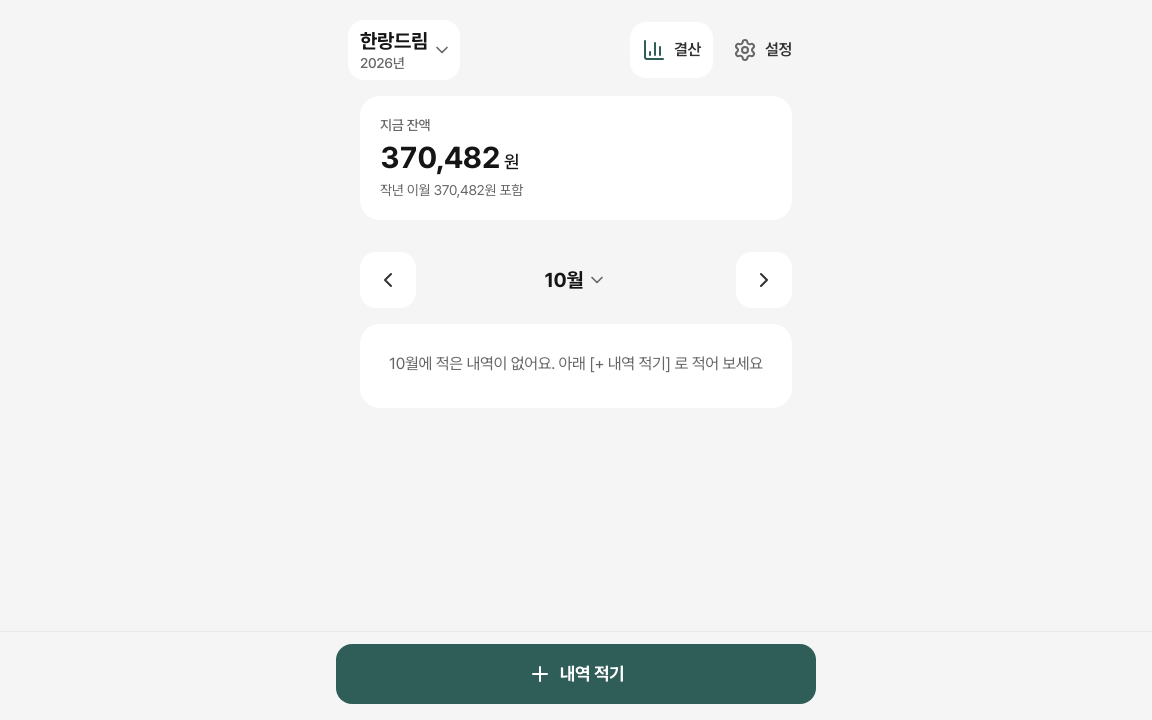
SPEC-002 첫 장부 뒤 홈 화면에 추가 권하기 (#135) › 이미 쓰던 폰(값 없음)에서 두 번째 장부를 만들어도 카드가 뜨지 않는다
This screenshot has width=1152, height=720.
Click the button with test id "book-button".
click(404, 50)  # box [348,20,460,80]
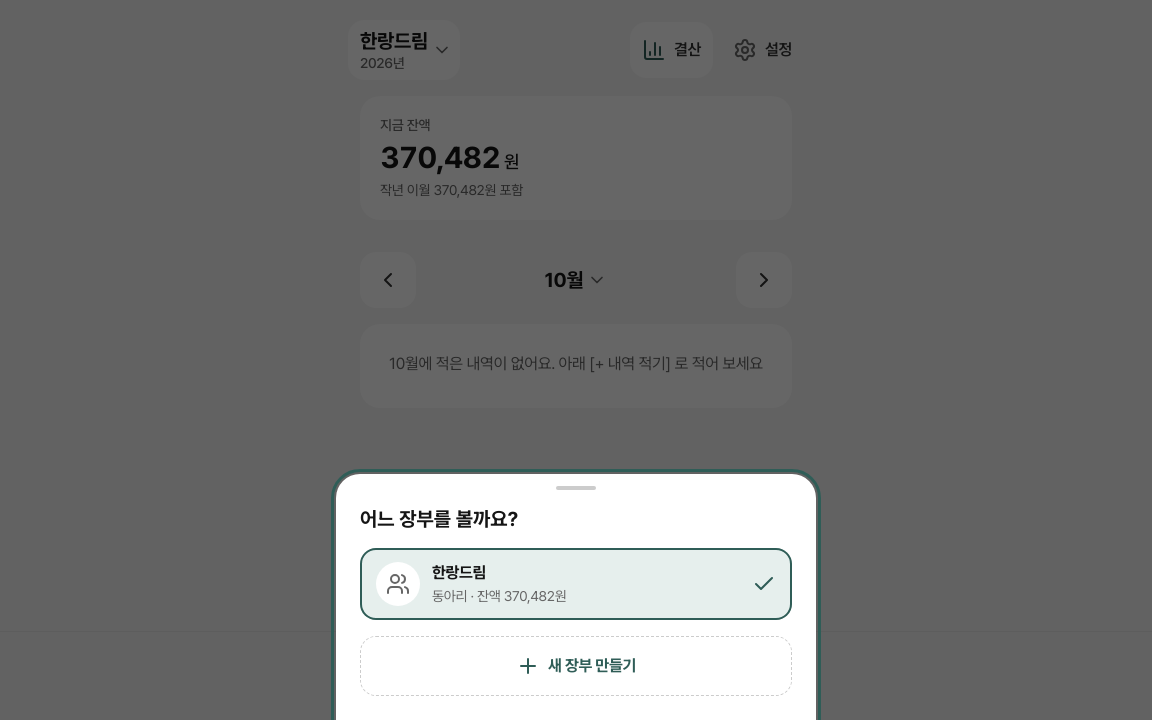
Click the button "새 장부 만들기".
click(576, 666)  # box [360,636,792,696]
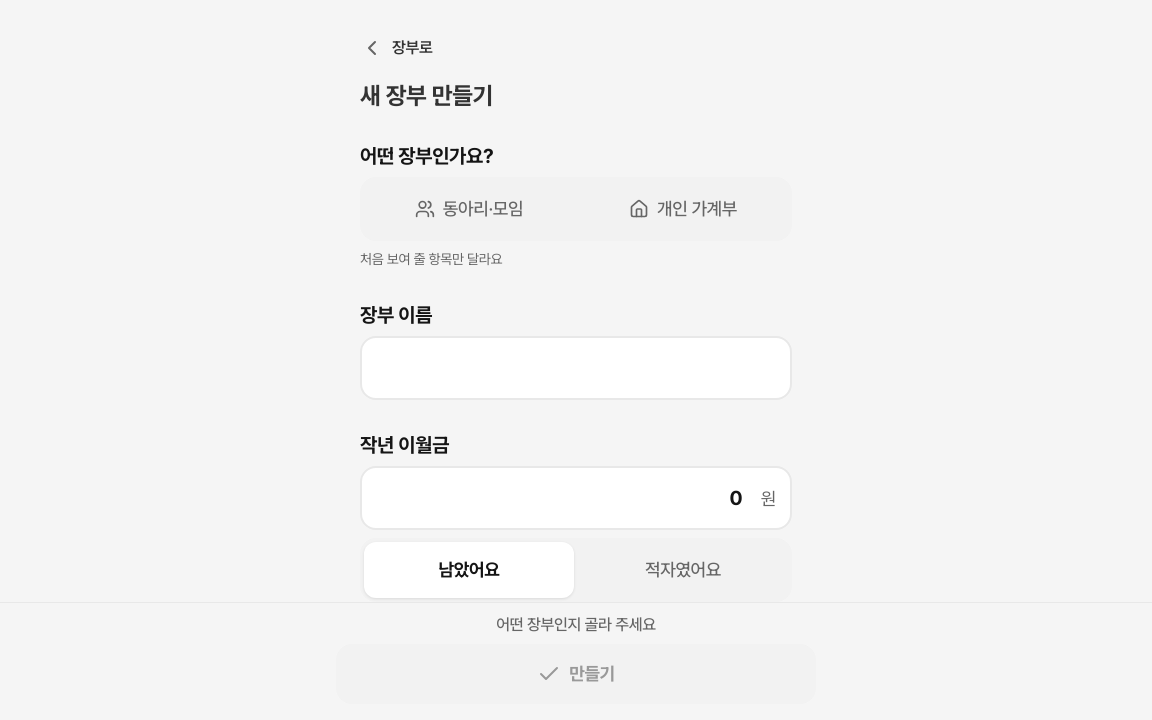
Click the button "개인 가계부".
click(683, 209)  # box [578,181,788,237]
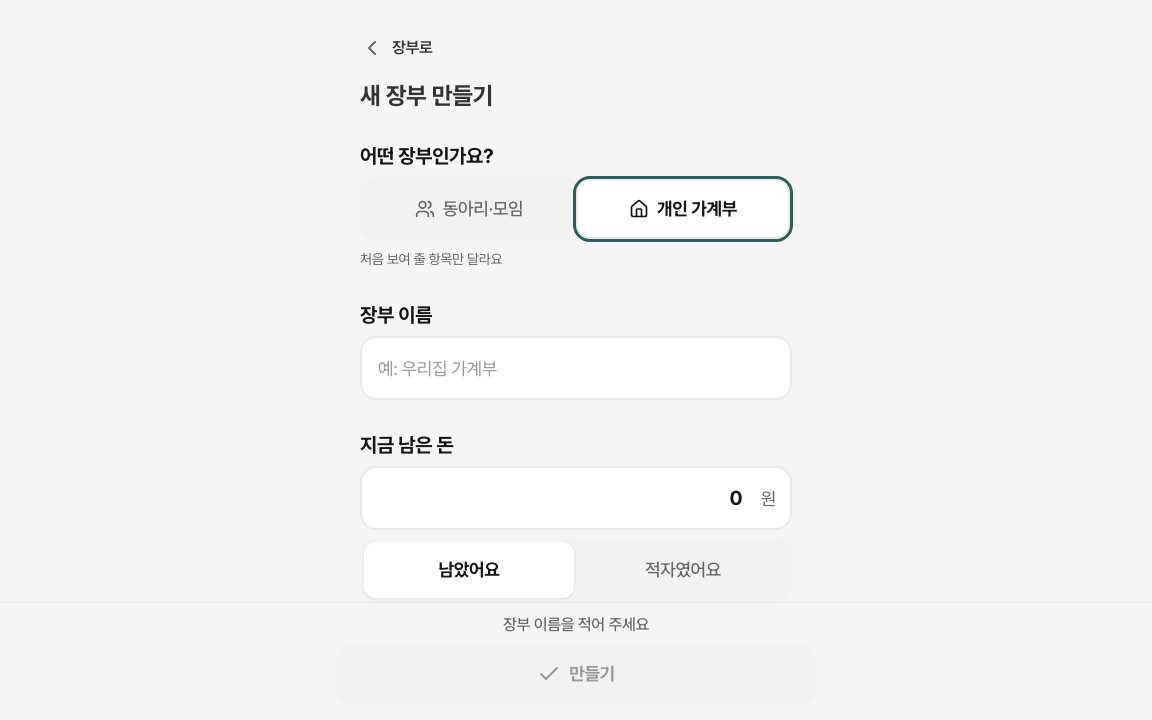
Type "우리집" into the field labelled "장부 이름".
click(576, 368); type("우리집")  # box [360,336,792,400]
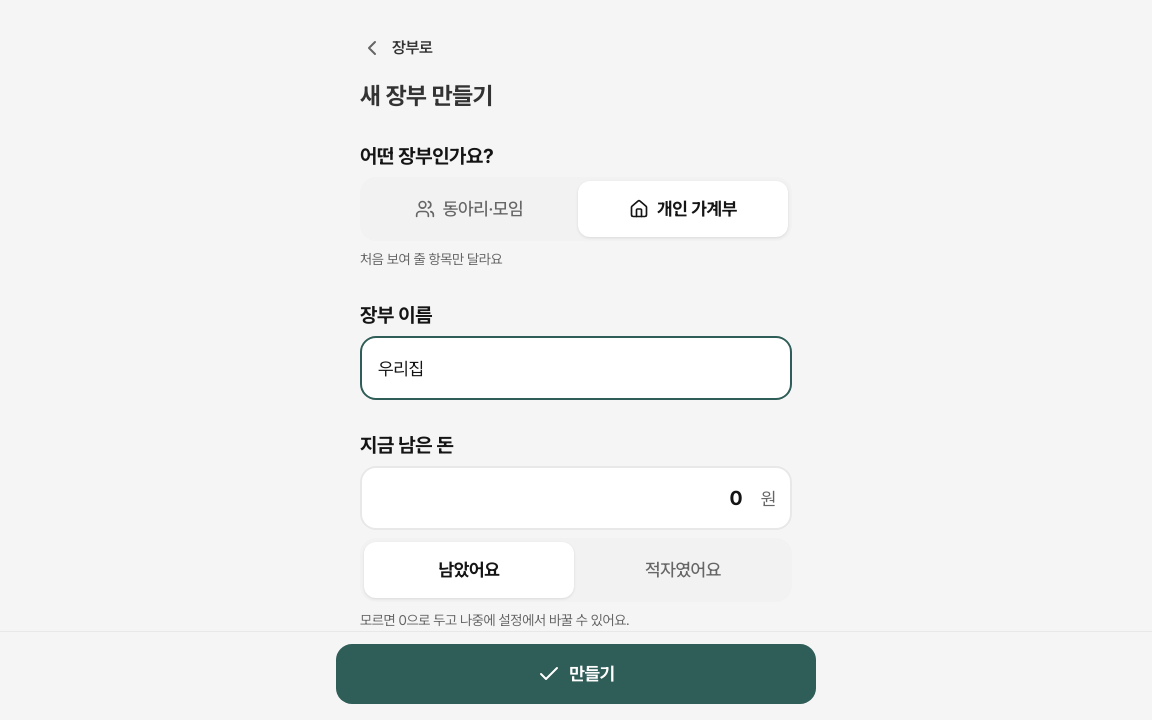
Click the button "만들기".
click(576, 674)  # box [336,644,816,704]
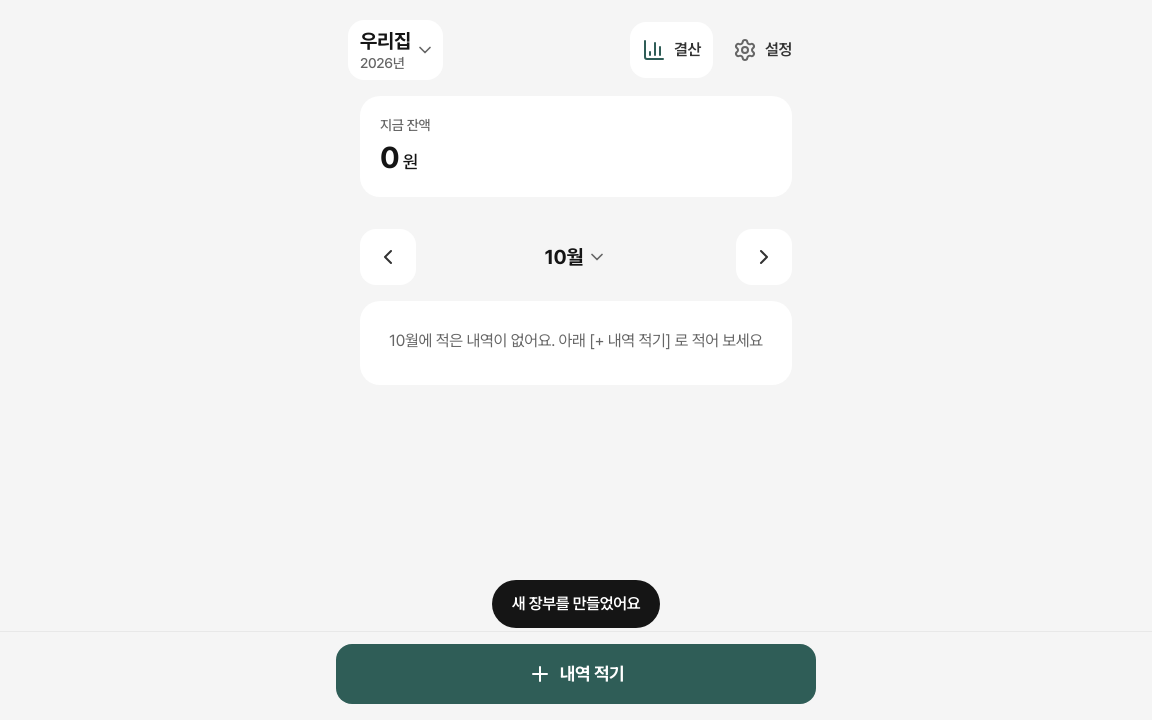
Result: the element with test id "ledger-screen" is shown at [360,20,792,474]
